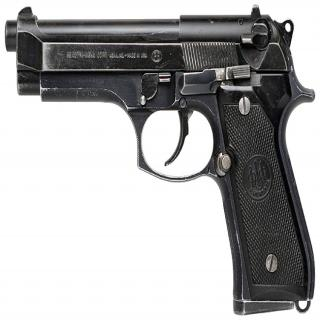gun: (3, 4, 314, 316)
